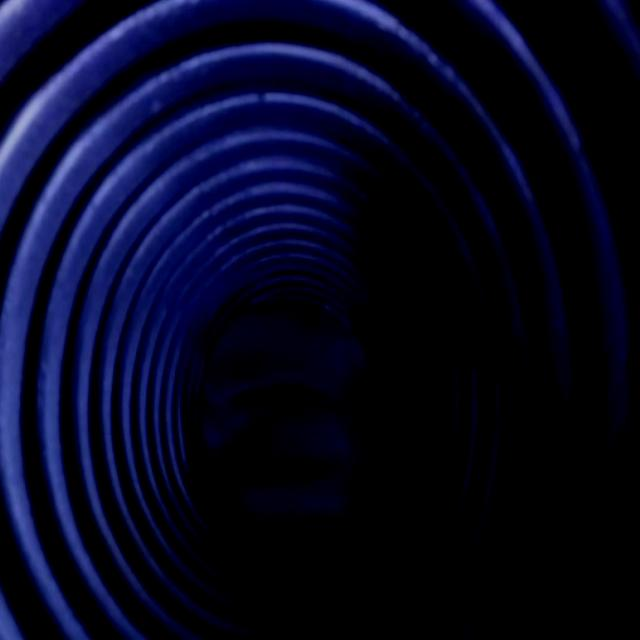block: (206, 297, 373, 525)
